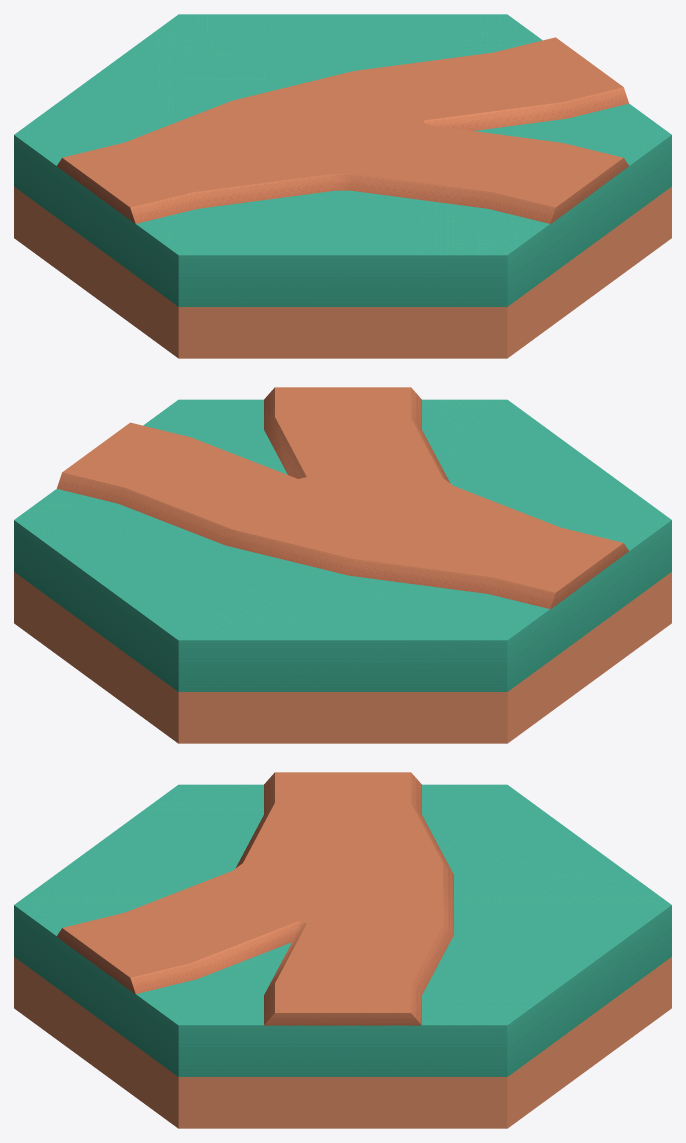
Rendered from grass-path-intersectionC.glb.
3 views of the same model, one above another, from view 1: azimuth 30°, elevation 25°; view 2: azimuth 150°, elevation 25°; view 3: azimuth 270°, elevation 25° (orthographic).
Visible parts, largest first — view 1: grass, path-intersectionC; view 2: grass, path-intersectionC; view 3: grass, path-intersectionC.
Part boxes in pixels (x1,y1,x2,y2): grass: [14, 14, 671, 358]; path-intersectionC: [56, 37, 628, 224]; grass: [14, 399, 671, 743]; path-intersectionC: [57, 387, 628, 609]; grass: [14, 784, 671, 1128]; path-intersectionC: [56, 772, 453, 1025].
Bounding box in the file's own units: 1 × 0.224 × 1.15.
1 material, 1 textured.
